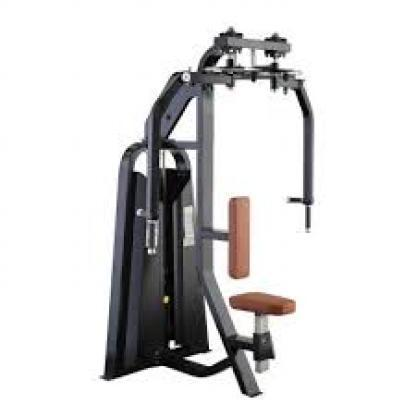chest fly machine: (87, 22, 331, 403)
